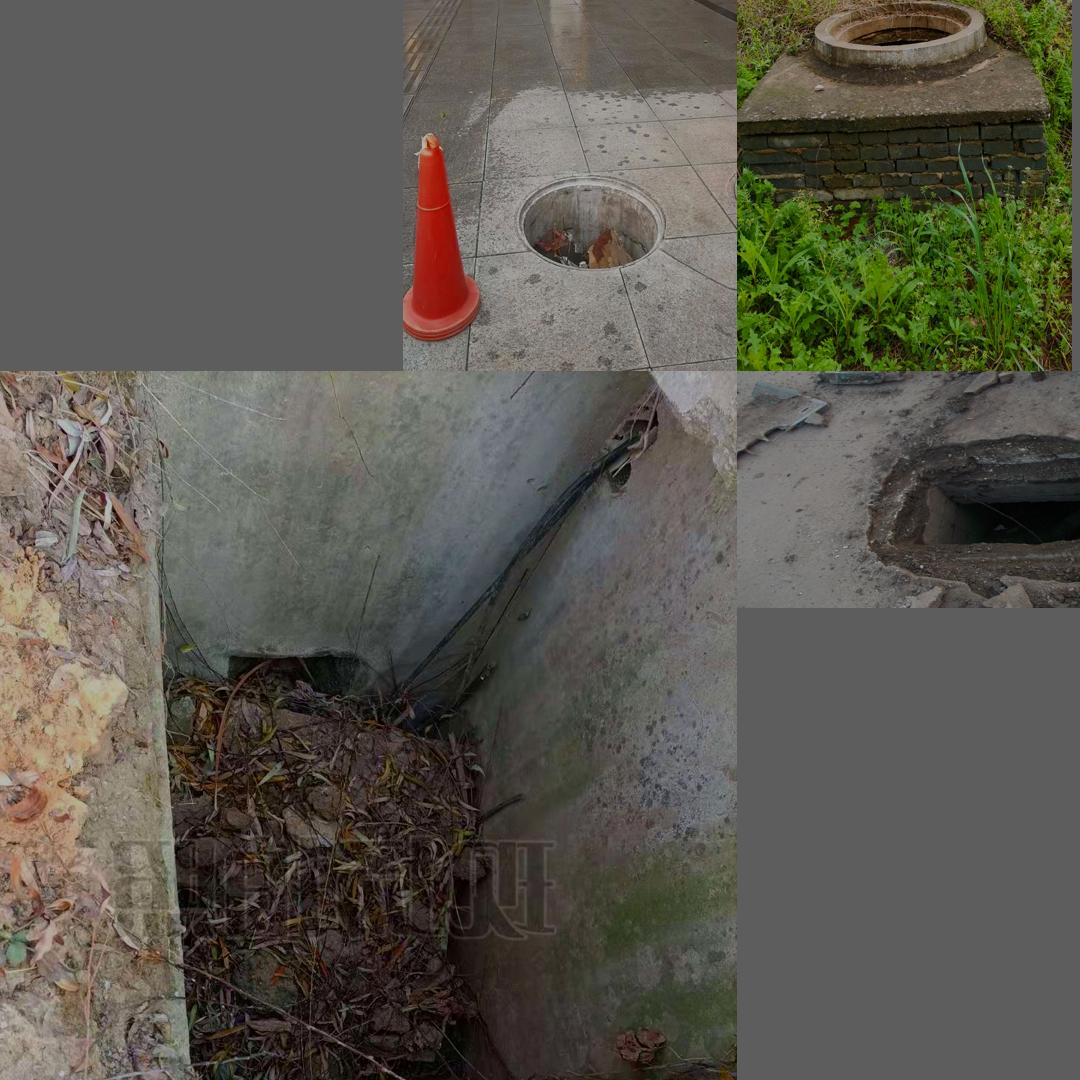lose: (63, 390, 724, 1080), (511, 168, 674, 280), (915, 466, 1080, 546), (817, 0, 986, 67)
